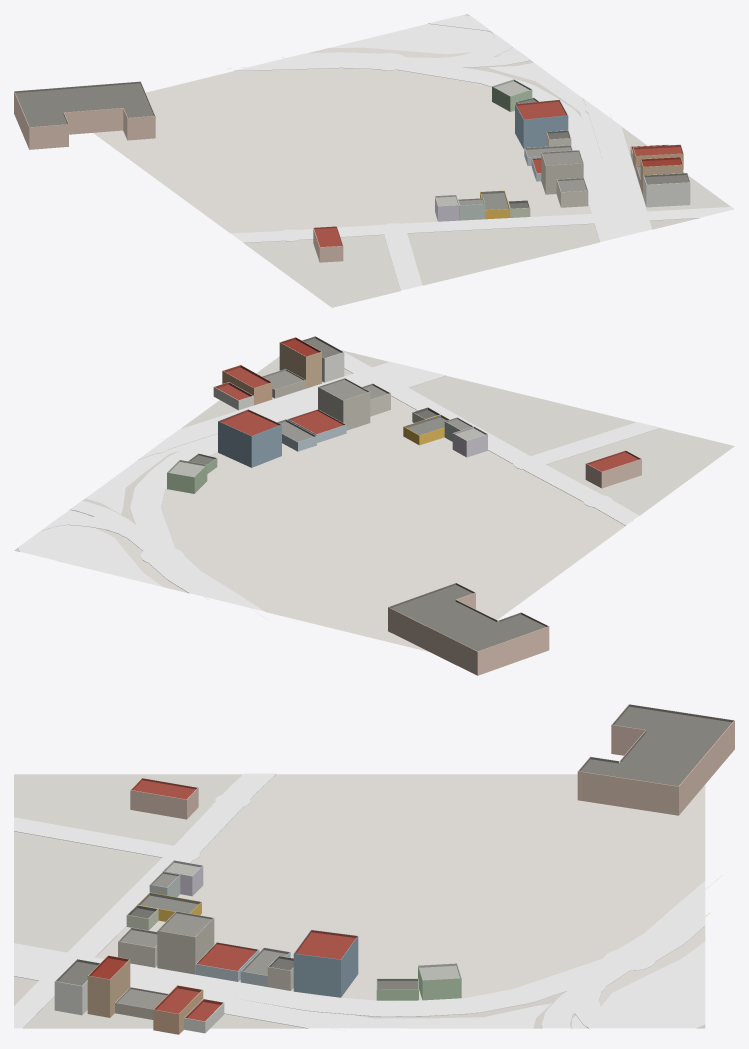
3 views of the same model, one above another, from view 1: azimuth 30°, elevation 25°; view 2: azimuth 150°, elevation 25°; view 3: azimuth 270°, elevation 25° (orthographic). The views are drawn at different scales.
Visible parts, largest first — view 1: ground, sidewalk, walls, roofs, grass; view 2: ground, sidewalk, walls, roofs, grass; view 3: ground, sidewalk, walls, roofs, grass.
Boxes of the visible parts, x1=… form: ground: x1=93, y1=14, x2=730, y2=307; sidewalk: x1=231, y1=15, x2=734, y2=290; walls: x1=14, y1=86, x2=690, y2=262; roofs: x1=14, y1=79, x2=690, y2=247; grass: x1=329, y1=24, x2=598, y2=147; ground: x1=14, y1=350, x2=734, y2=651; sidewalk: x1=18, y1=340, x2=660, y2=611; walls: x1=167, y1=342, x2=641, y2=675; roofs: x1=167, y1=336, x2=641, y2=651; grass: x1=41, y1=436, x2=209, y2=586; ground: x1=14, y1=774, x2=705, y2=1028; sidewalk: x1=14, y1=773, x2=705, y2=1028; walls: x1=54, y1=721, x2=734, y2=1034; roofs: x1=55, y1=704, x2=734, y2=1021; grass: x1=307, y1=941, x2=705, y2=1028.
Size of what is drawn, in the model's own units: 224 by 13.23 by 226.
